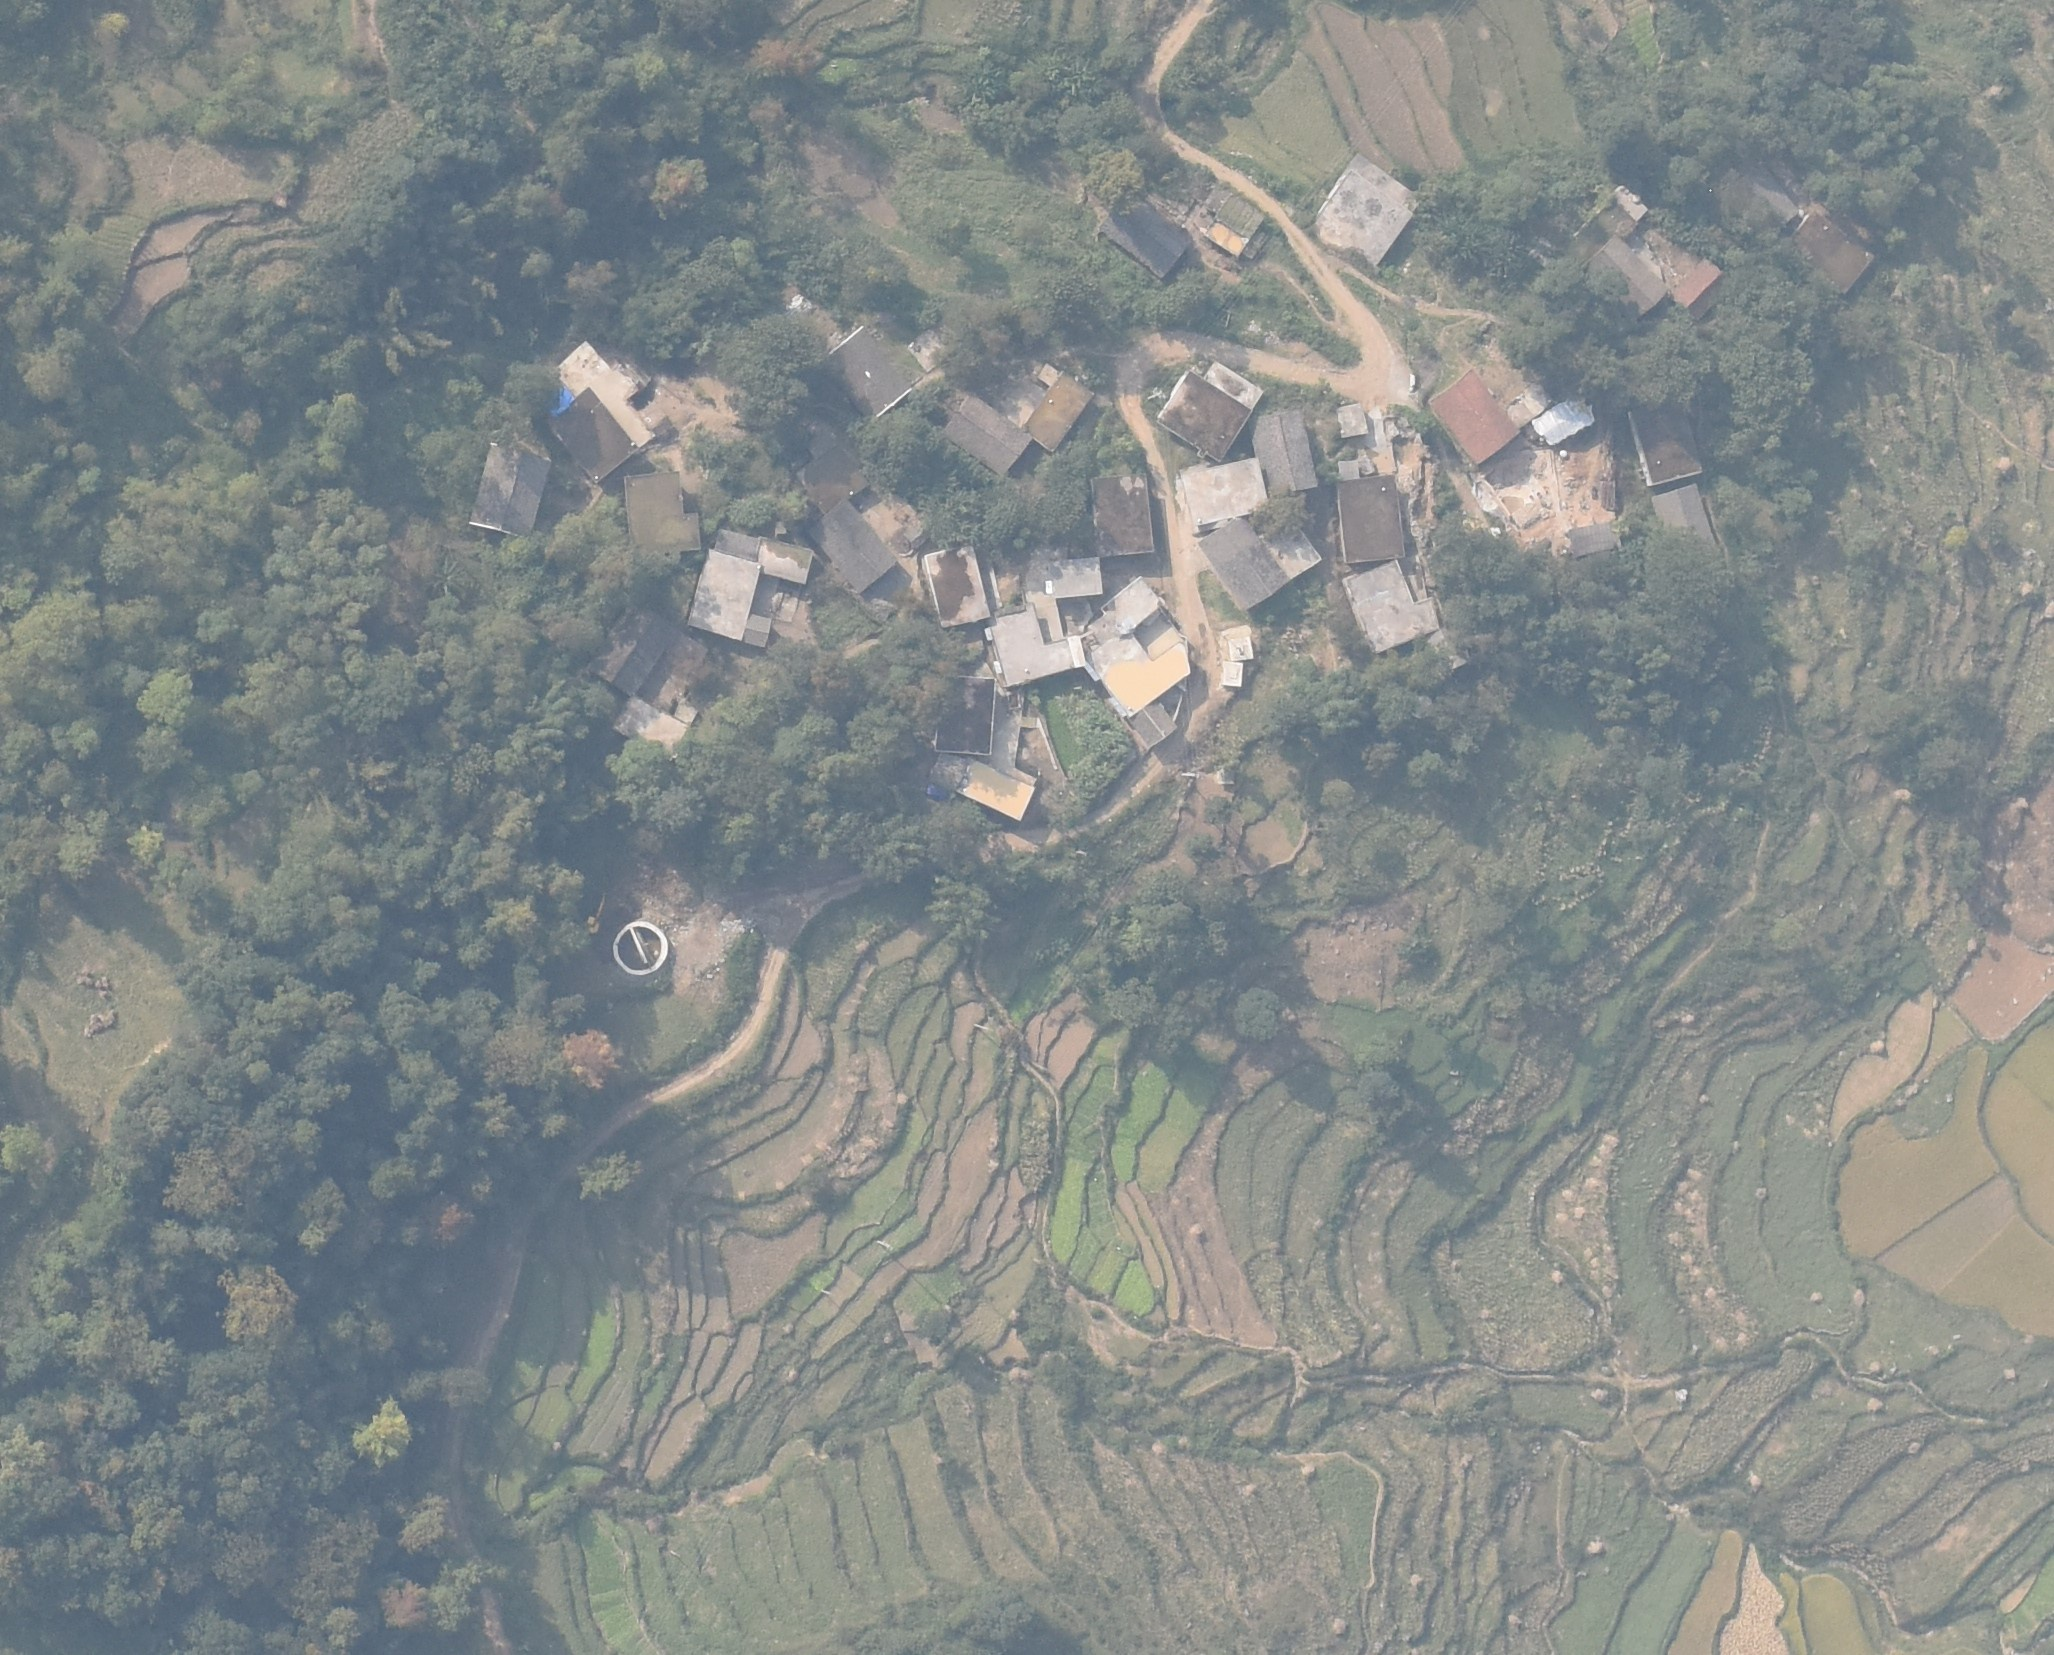building: (549, 341, 659, 485), (687, 529, 814, 648), (590, 603, 679, 691), (470, 442, 551, 539), (622, 471, 701, 552), (613, 696, 698, 755)
cable-tower: (1149, 387, 1166, 404), (875, 1240, 895, 1253), (973, 1022, 992, 1034), (1181, 772, 1199, 782), (667, 1547, 682, 1559), (1076, 849, 1089, 856), (818, 1289, 833, 1294)
prefabricated-house: (1081, 574, 1191, 748), (1312, 154, 1422, 274), (1199, 515, 1323, 615), (1155, 360, 1265, 459), (814, 326, 914, 421), (1341, 557, 1437, 652), (806, 498, 894, 598), (1095, 193, 1193, 280), (1431, 368, 1519, 464), (939, 393, 1034, 476), (990, 601, 1081, 684), (1784, 209, 1877, 289), (1583, 236, 1665, 319), (1630, 400, 1703, 485), (1252, 410, 1319, 500), (1189, 182, 1269, 258), (1019, 373, 1091, 456), (1179, 461, 1270, 527), (1334, 475, 1405, 557), (926, 545, 992, 628), (1089, 473, 1154, 557), (797, 441, 868, 513), (936, 674, 997, 757), (958, 758, 1034, 822), (1654, 485, 1716, 557), (1671, 258, 1726, 319), (1338, 400, 1370, 437), (547, 387, 573, 421), (1228, 638, 1253, 660), (1223, 662, 1243, 689)
vehicle: (1407, 373, 1417, 392)
well: (608, 915, 676, 979)
